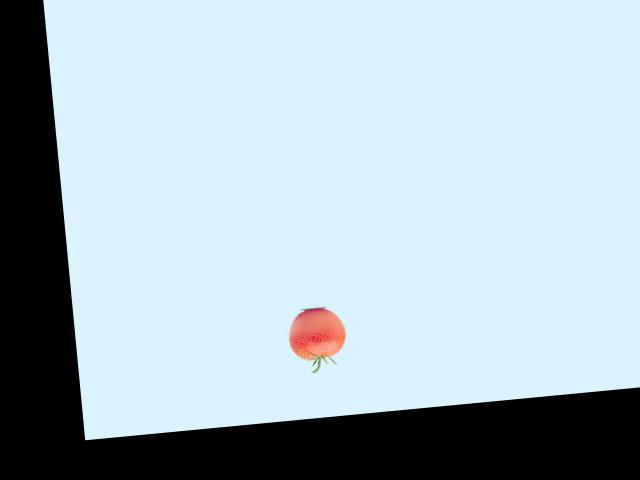tomato: (287, 306, 348, 361)
